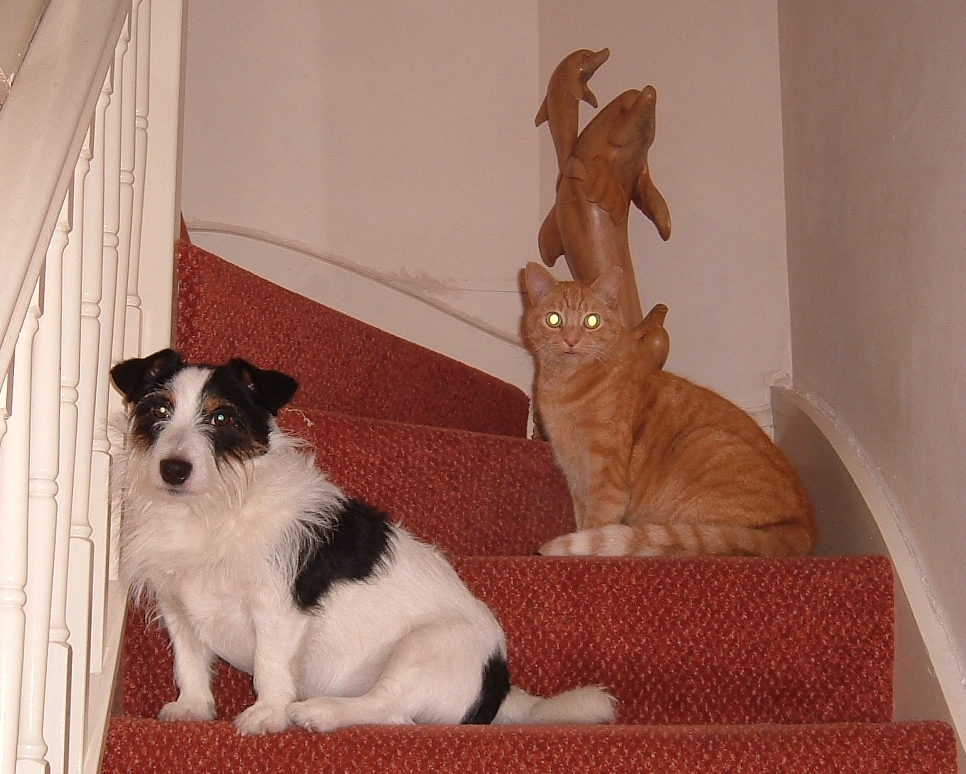cat: (527, 260, 816, 556)
